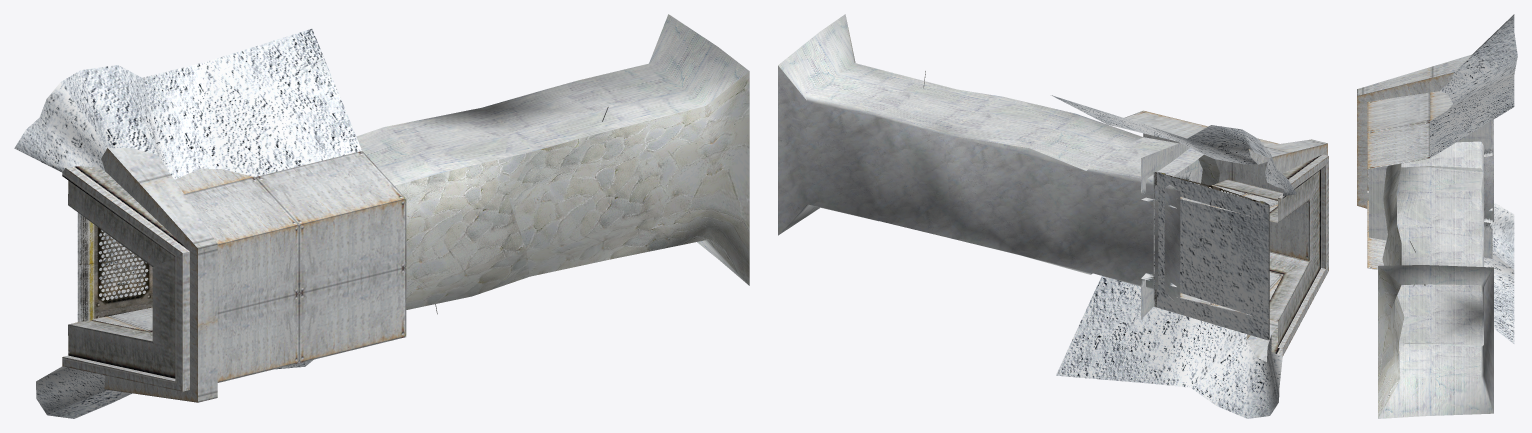
The model's file is rv_mod_tem_tunnel_exit.obj.
3 views of the same model, side by side, from view 1: azimuth 30°, elevation 25°; view 2: azimuth 150°, elevation 25°; view 3: azimuth 270°, elevation 25° (orthographic). The views are drawn at different scales.
Visible parts, largest first — view 1: rv_mod_tem_tunnel_exit; view 2: rv_mod_tem_tunnel_exit; view 3: rv_mod_tem_tunnel_exit.
Boxes of the visible parts, x1,y1,x2,y2 form: rv_mod_tem_tunnel_exit: (14, 14, 749, 418); rv_mod_tem_tunnel_exit: (778, 14, 1328, 418); rv_mod_tem_tunnel_exit: (1357, 14, 1517, 418).
Bounding box in the file's own units: 30.1 × 15.8 × 9.19.
Materials: 9 (9 with a texture image).
